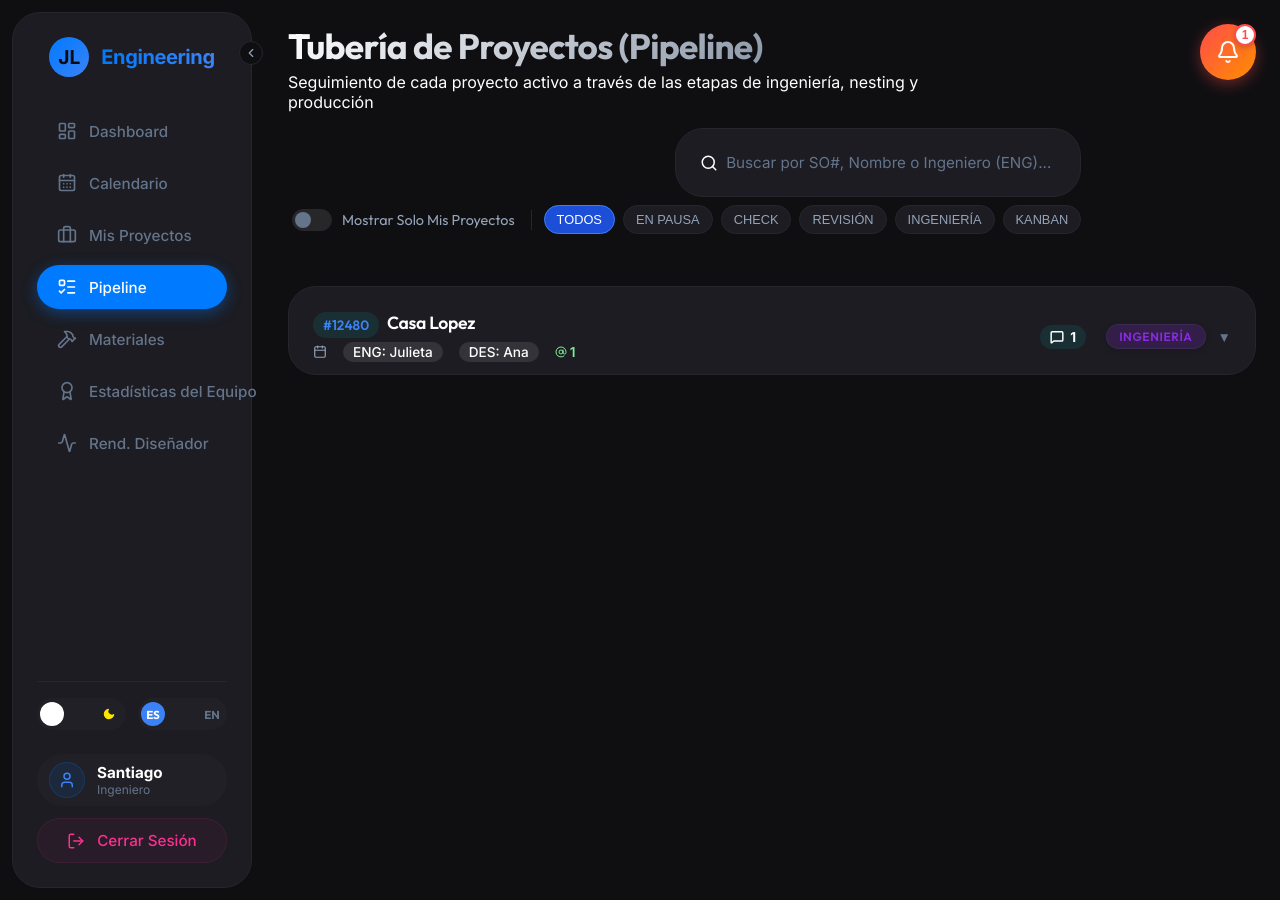
it: cableado del flujo de tags (App + Pipeline) › el click en la alerta de tag abre el modal Y sigue abierto pasado el timer de 250 ms
La campana lista la alerta de tag armada por buildTagAlerts.
Click the button named "Notificaciones: 1 sin leer" at point(1228, 52), box [1200,24,1256,80]
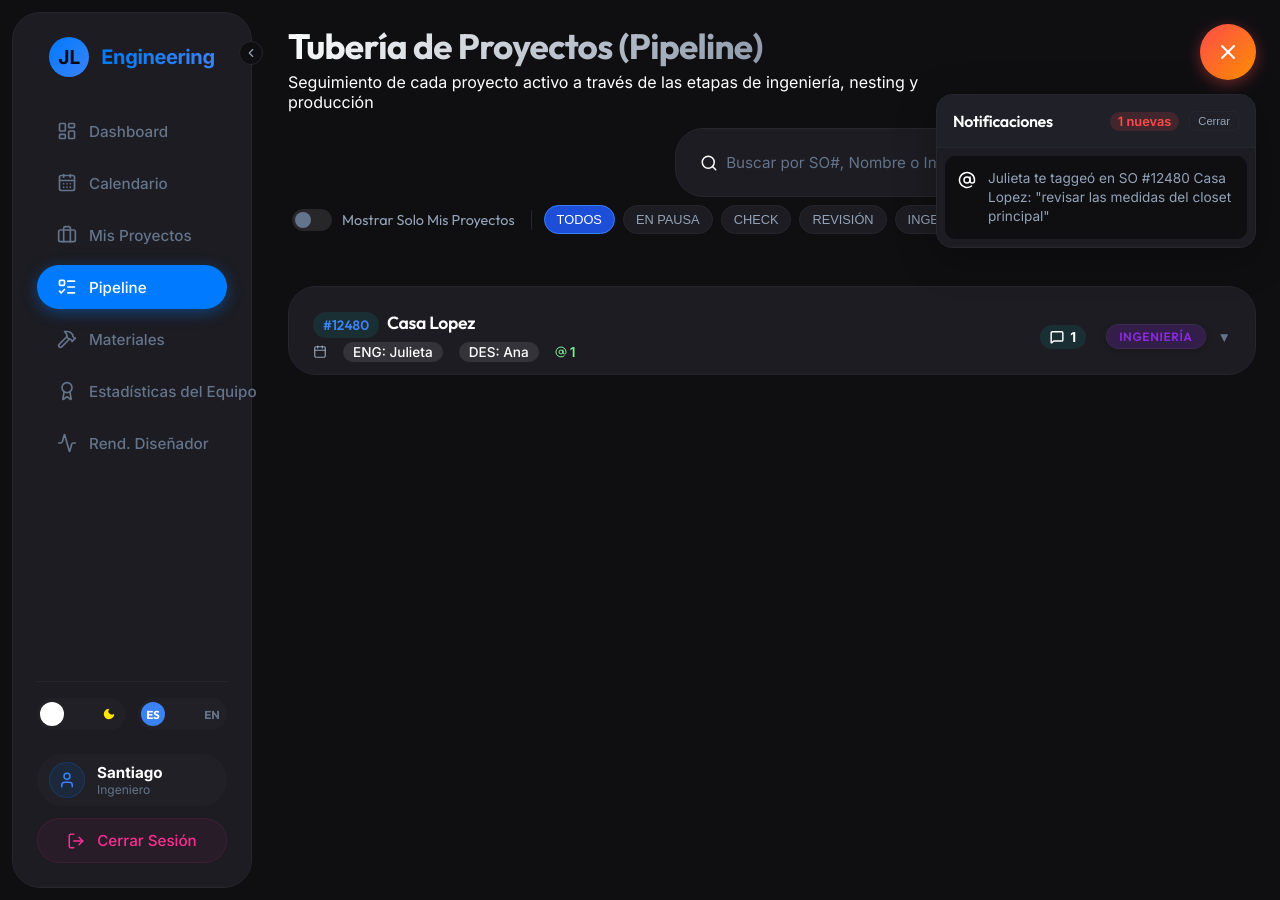
Click the text "Julieta te taggeó en SO #12480" at point(1111, 198), box [988,169,1234,226]
Wait 1000 ms
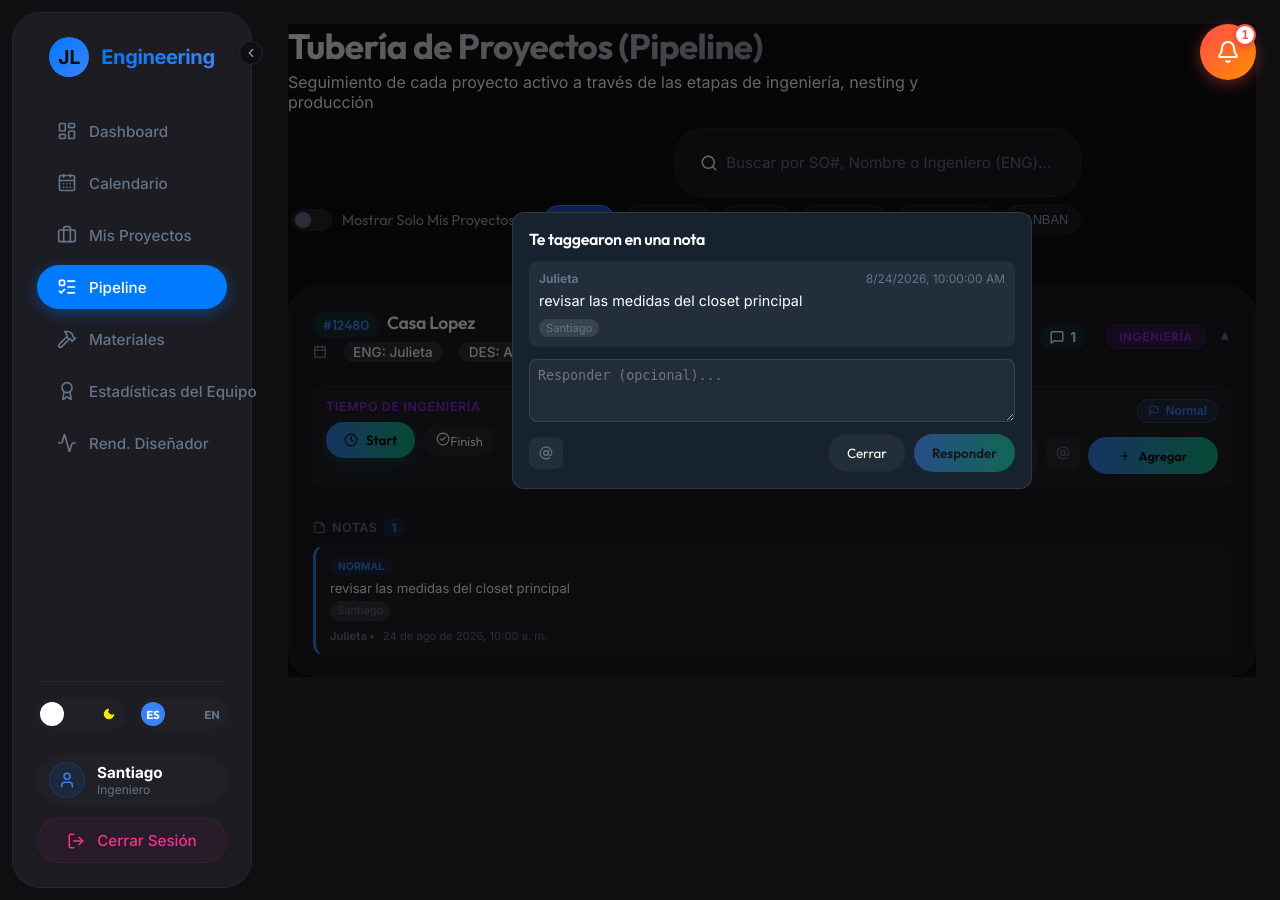
Expected: the heading "Te taggearon en una nota" is shown, [529,229,705,249]
Expected: the text "revisar las medidas del closet principal" is shown, [539,292,802,309]
